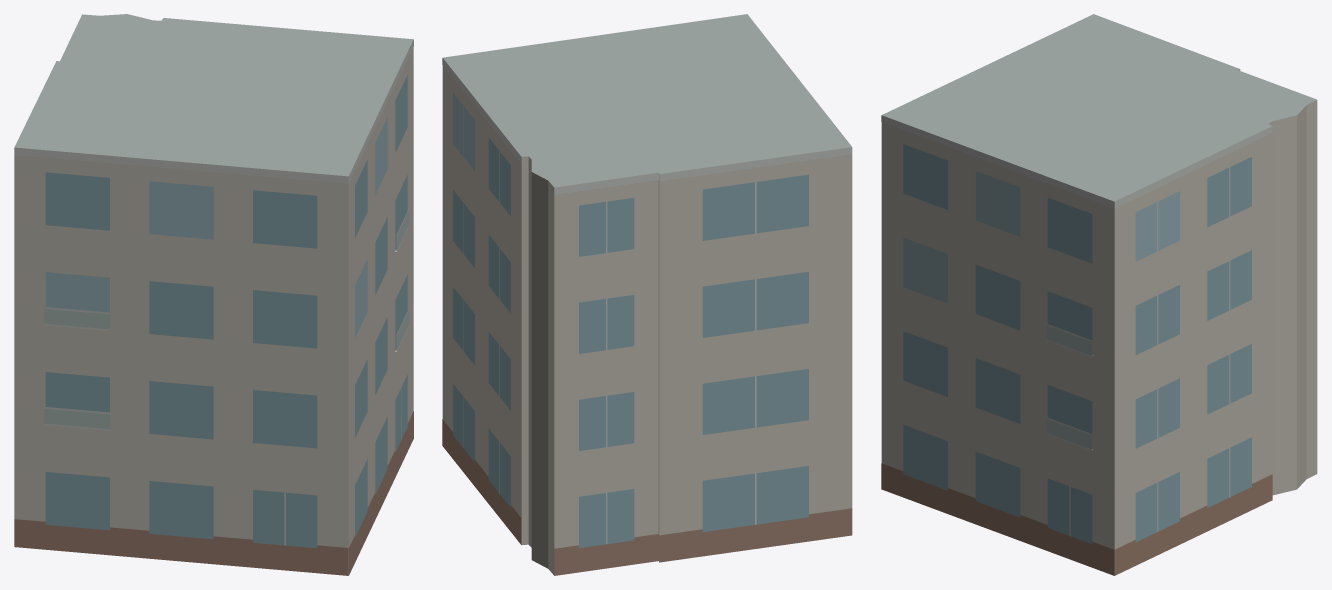
Rendered from survey-upis-32523587.glb.
The picture shows the model from 3 angles, left to right: view 1: azimuth 30°, elevation 25°; view 2: azimuth 150°, elevation 25°; view 3: azimuth 270°, elevation 25°; orthographic projection. The views are drawn at different scales.
Visible parts, largest first — view 1: survey-upis-32523587.tmp; view 2: survey-upis-32523587.tmp; view 3: survey-upis-32523587.tmp.
Part boxes in pixels (x1,y1,x2,y2): survey-upis-32523587.tmp: (14,14,413,575); survey-upis-32523587.tmp: (442,14,852,575); survey-upis-32523587.tmp: (881,14,1317,575).
Bounding box in the file's own units: 14.09 × 13.1 × 13.83.
